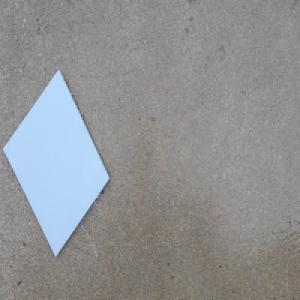PaintChip: (3, 68, 110, 258)
